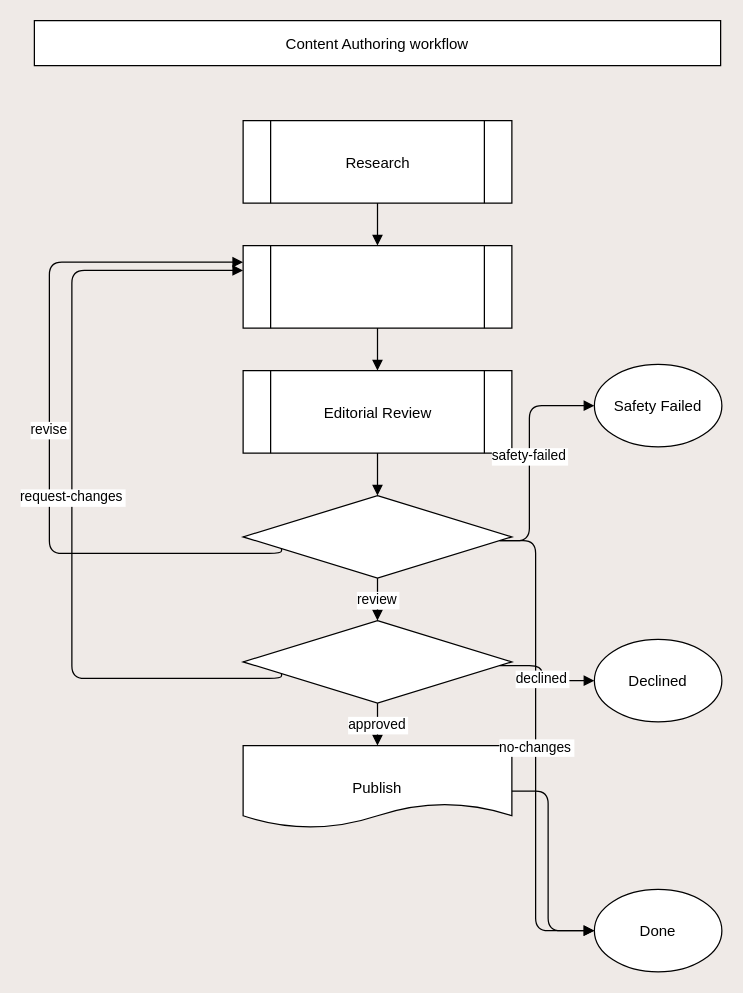
This 743x993 diagram has some shape labels left out. Here are the shapes that lost their labels. From the top down, the box of each, then its label:
(242, 244, 512, 328): Draft
(242, 494, 512, 578): RAI Check
(242, 619, 512, 703): Human Review
